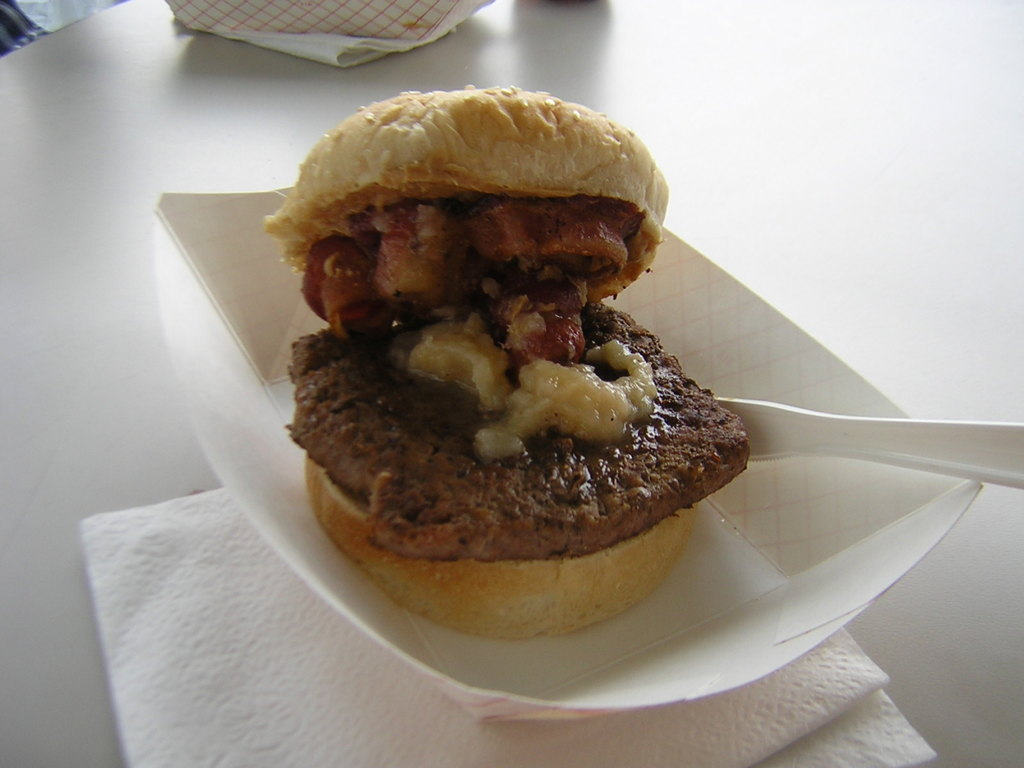Hamburger: (260, 81, 752, 642)
